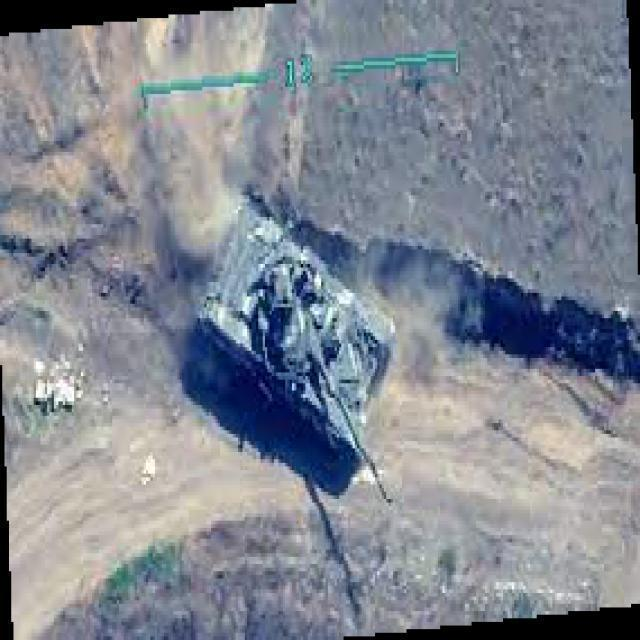Tanks: (196, 198, 396, 506)
